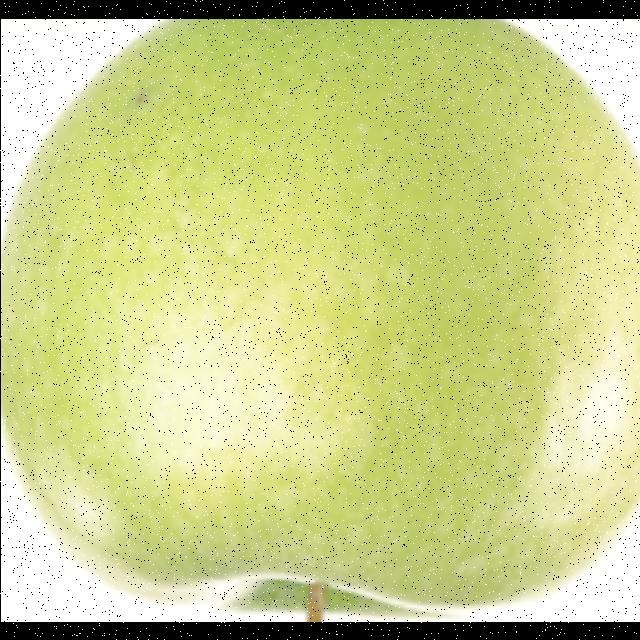Apel Segar: (0, 19, 640, 622)
